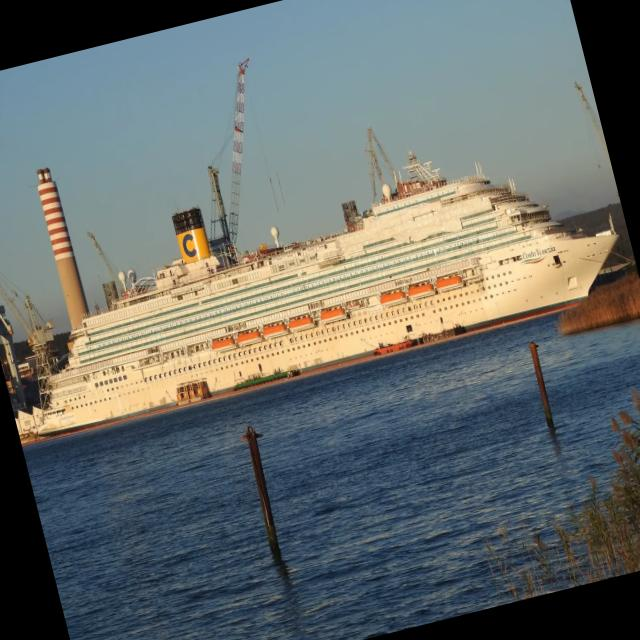Cruise: (38, 153, 617, 434)
